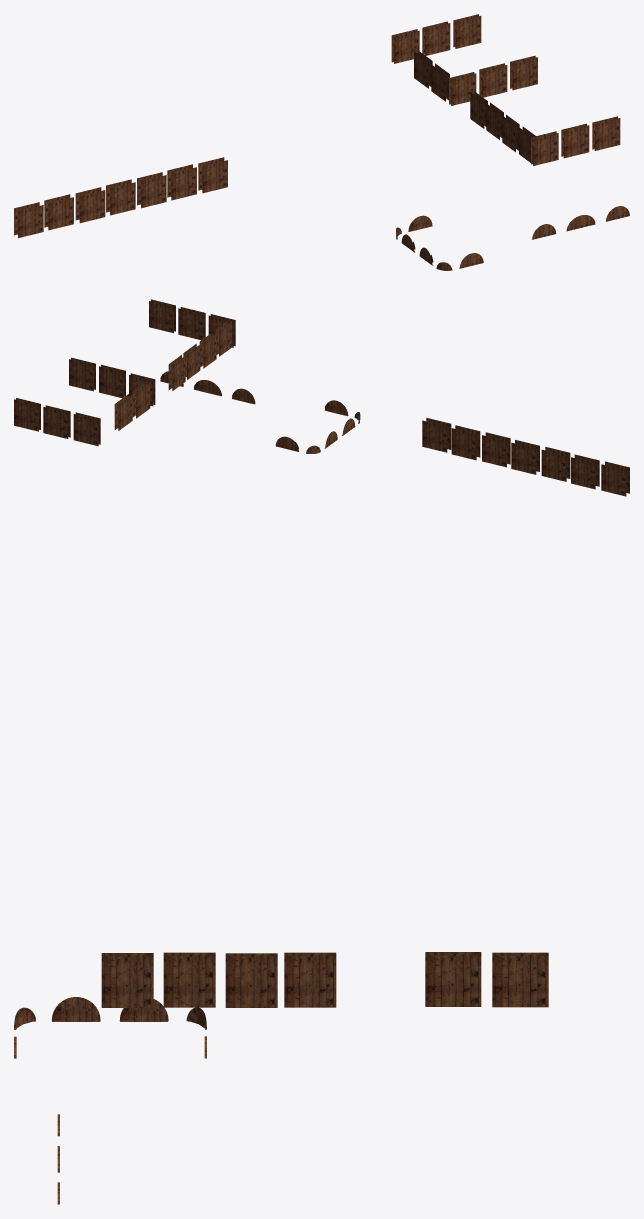
Rendered from tavern_181.gltf.
The picture shows the model from 3 angles, top to bottom: view 1: azimuth 30°, elevation 25°; view 2: azimuth 150°, elevation 25°; view 3: azimuth 270°, elevation 25°; orthographic projection. The views are drawn at different scales.
Visible parts, largest first — view 1: Box123_Material #170_0.006; view 2: Box123_Material #170_0.006; view 3: Box123_Material #170_0.006.
Part boxes in pixels (x1=…): Box123_Material #170_0.006: x1=14, y1=14, x2=629, y2=270; Box123_Material #170_0.006: x1=14, y1=299, x2=629, y2=496; Box123_Material #170_0.006: x1=14, y1=952, x2=548, y2=1204.
Bounding box in the file's own units: 313 × 49.94 × 161.
